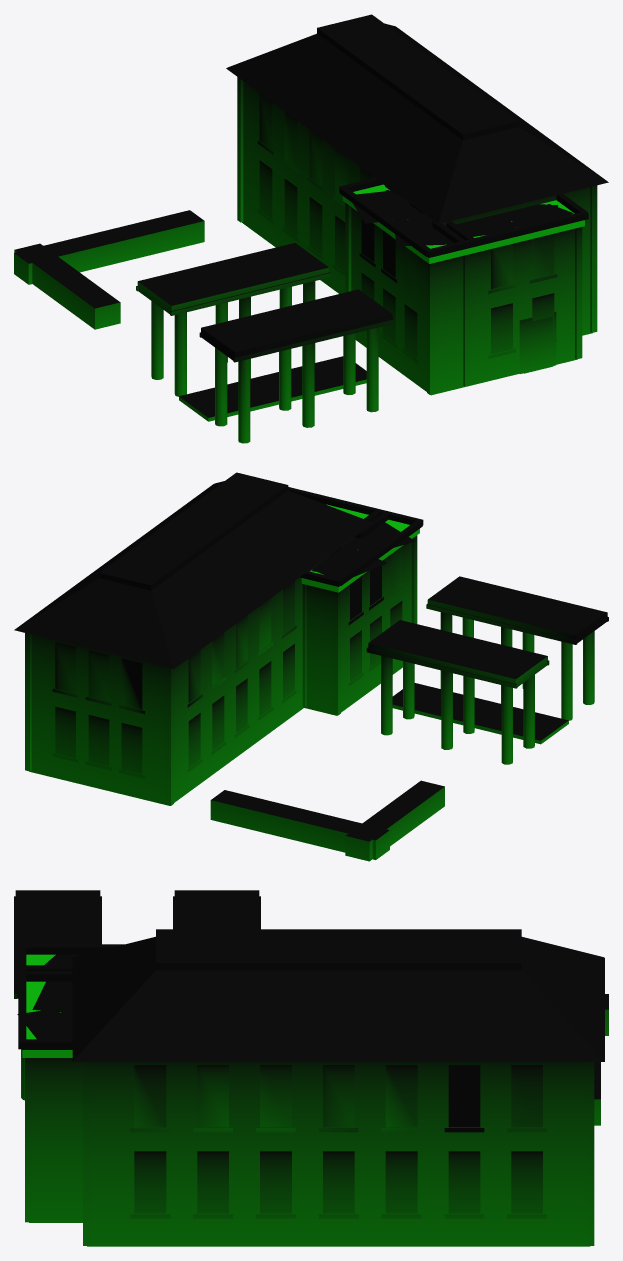
The model's file is s_gov2.glb.
The picture shows the model from 3 angles, top to bottom: view 1: azimuth 30°, elevation 25°; view 2: azimuth 150°, elevation 25°; view 3: azimuth 270°, elevation 25°; orthographic projection. The views are drawn at different scales.
Parts seen in each view (by area): view 1: lod0; view 2: lod0; view 3: lod0.
Boxes of the visible parts, bbox=[...] form: lod0: bbox=[14, 14, 608, 443]; lod0: bbox=[14, 472, 608, 861]; lod0: bbox=[14, 890, 608, 1246].
Size of what is drawn, in the model's own units: 21.7 by 10.6 by 22.46.
